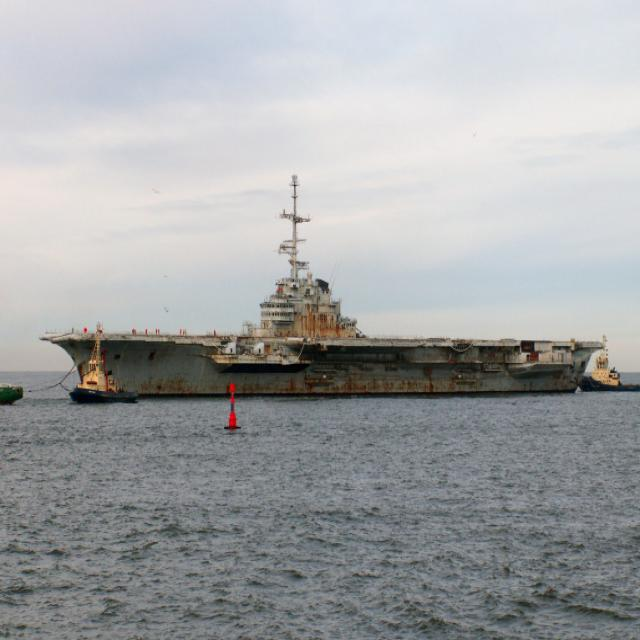Portanaves: (40, 168, 614, 408)
